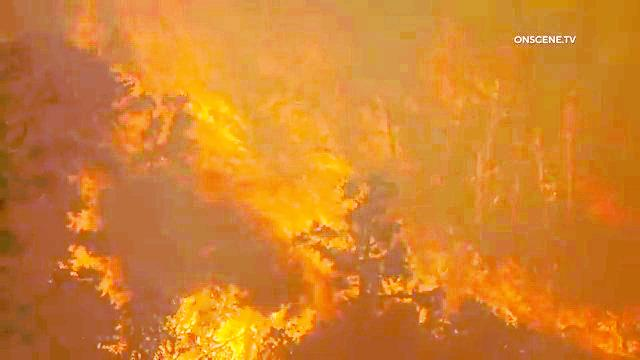fire: (279, 146, 404, 300), (115, 267, 273, 357), (135, 79, 234, 175)
